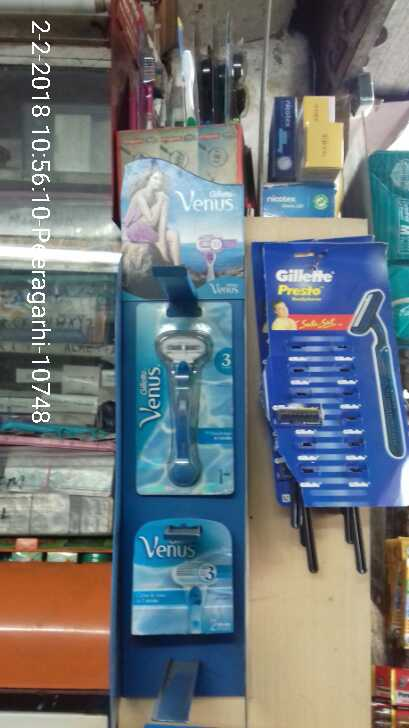beauty: (264, 262, 409, 507), (133, 295, 236, 492), (127, 509, 240, 635)
